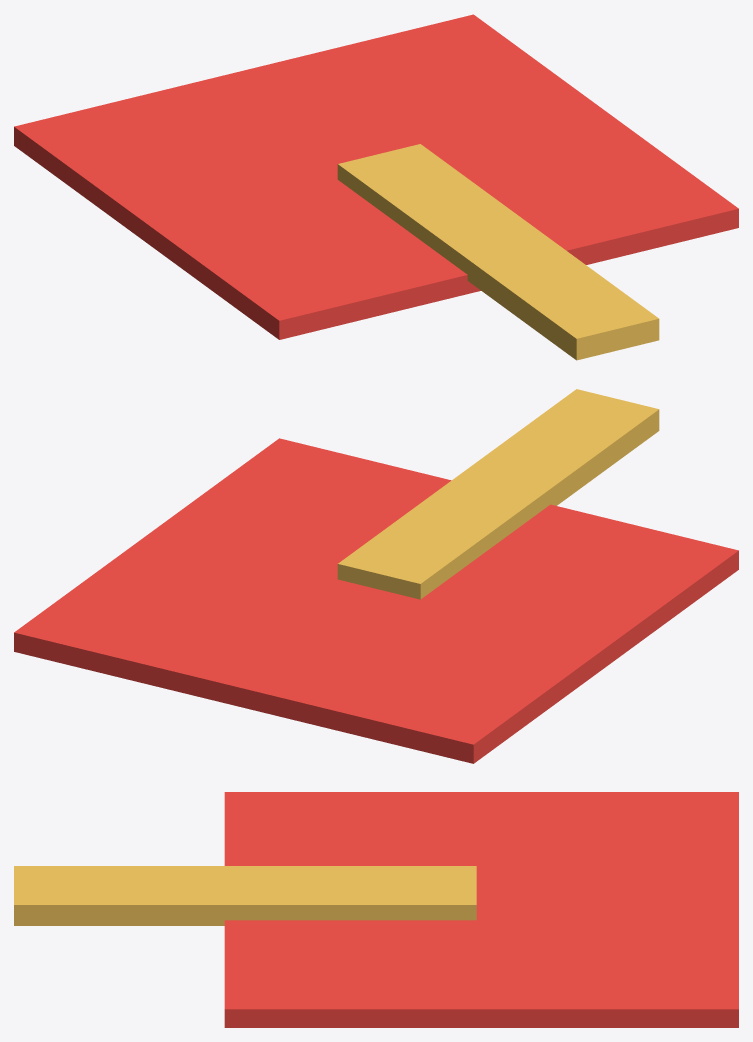
The model's file is marker.enemy_spawn.glb.
3 views of the same model, one above another, from view 1: azimuth 30°, elevation 25°; view 2: azimuth 150°, elevation 25°; view 3: azimuth 270°, elevation 25° (orthographic). The views are drawn at different scales.
Parts seen in each view (by area): view 1: spawn_disc, facing_tick; view 2: spawn_disc, facing_tick; view 3: spawn_disc, facing_tick.
Part boxes in pixels (left/top/right/bottom): spawn_disc: left=14, top=14, right=738, bottom=339; facing_tick: left=337, top=144, right=659, bottom=360; spawn_disc: left=14, top=438, right=738, bottom=763; facing_tick: left=337, top=389, right=659, bottom=599; spawn_disc: left=224, top=792, right=738, bottom=1027; facing_tick: left=14, top=866, right=476, bottom=925.
Bounding box in the file's own units: 1 × 0.0725 × 1.41.
